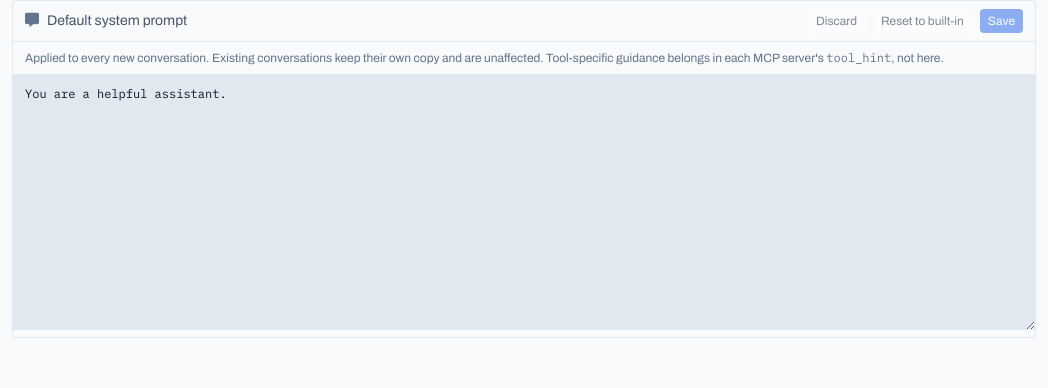
Test case: DefaultPromptEditor › surfaces a save error from the hook
Replace the text in the text box with "x" at (524, 202), box [13,74,1035,330]
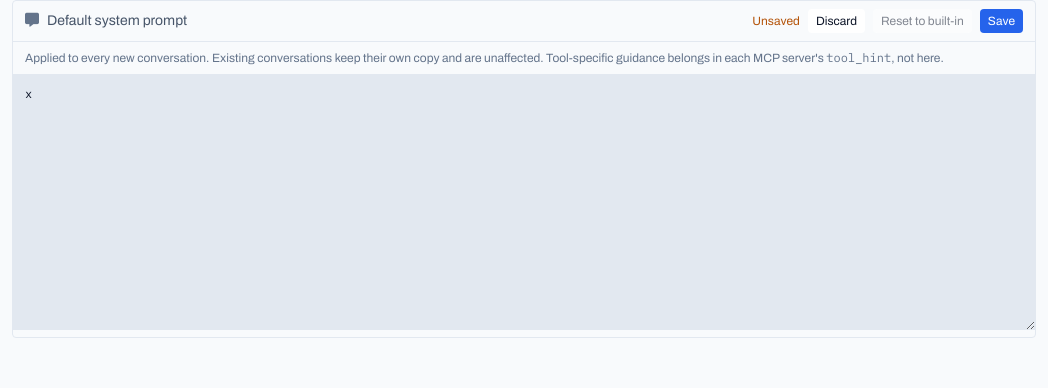
Click the button "Save" at (1001, 21), box [980,9,1023,33]
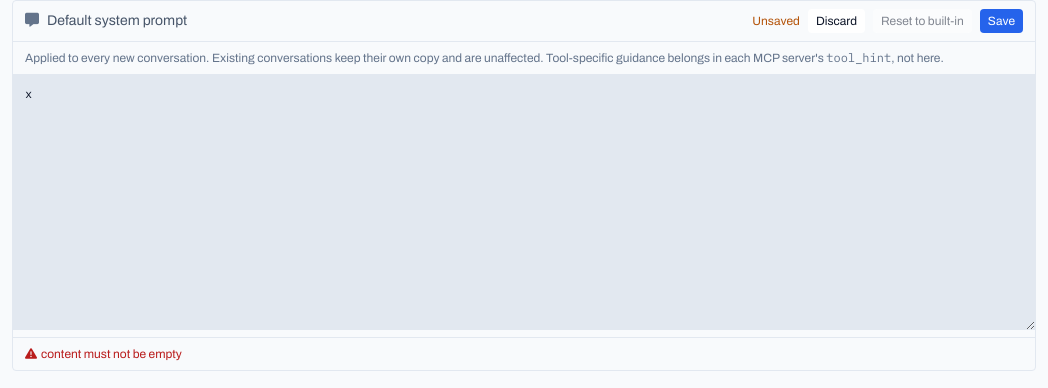
expect the text "content must not be empty" is shown: met, box [25,347,182,361]
